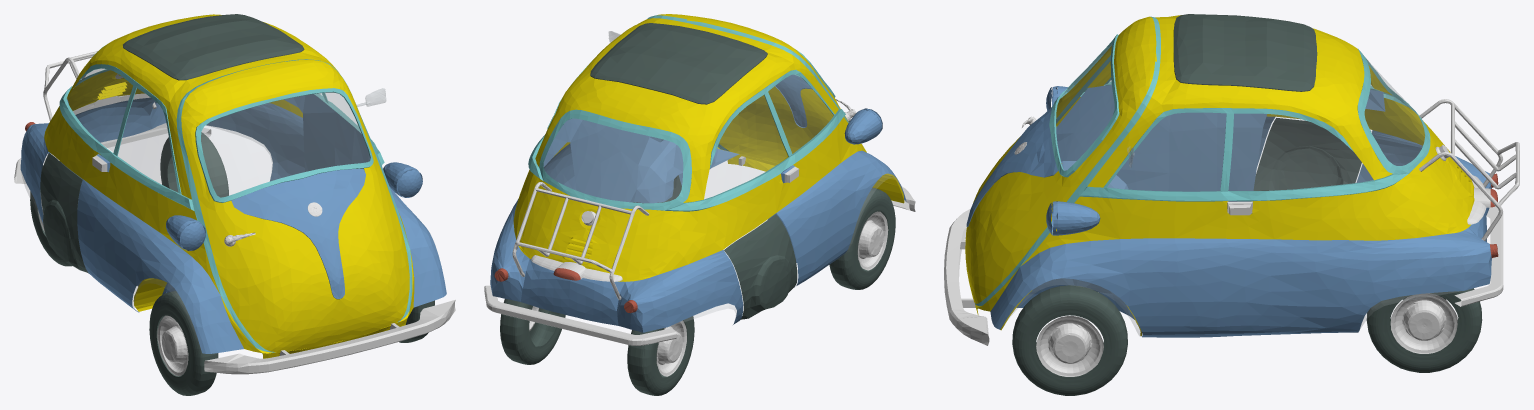
File: carrinho.dae
The picture shows the model from 3 angles, left to right: view 1: azimuth 30°, elevation 25°; view 2: azimuth 150°, elevation 25°; view 3: azimuth 270°, elevation 25°; orthographic projection. The views are drawn at different scales.
Visible parts, largest first — view 1: carrinho; view 2: carrinho; view 3: carrinho.
Part boxes in pixels (box(x1,y1,x2,y2)): carrinho: box(14, 14, 455, 395); carrinho: box(484, 14, 915, 395); carrinho: box(944, 14, 1519, 395).
Size of the model in its own units: 1.93 by 3.39 by 1.93.
